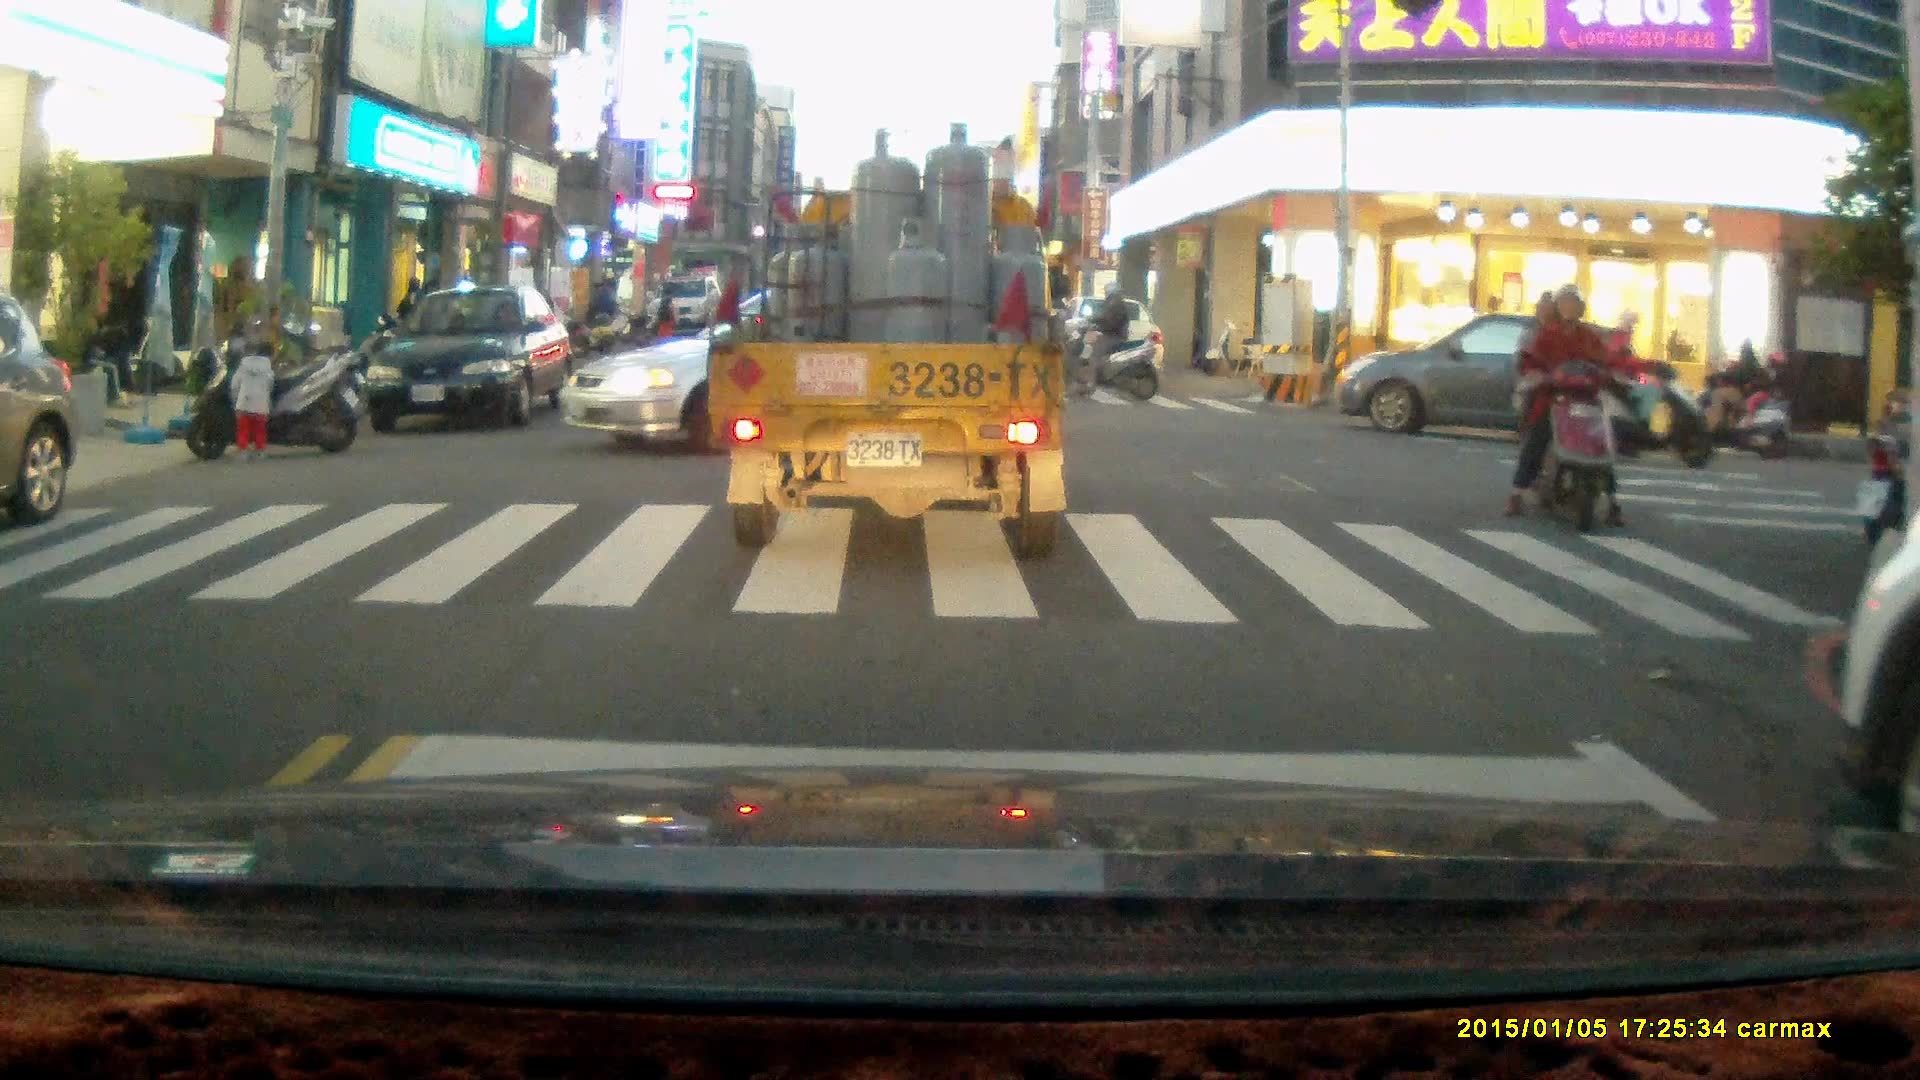pedestrian: (226, 338, 279, 463), (593, 277, 620, 339), (655, 284, 679, 342)
rider: (1500, 285, 1623, 533), (1571, 309, 1715, 465), (1676, 339, 1790, 459), (1065, 282, 1160, 403)
vehicle: (708, 122, 1069, 553), (556, 283, 1057, 449), (1329, 311, 1648, 467), (1837, 509, 1920, 906), (357, 287, 575, 435), (1066, 297, 1168, 383), (652, 278, 727, 334)
